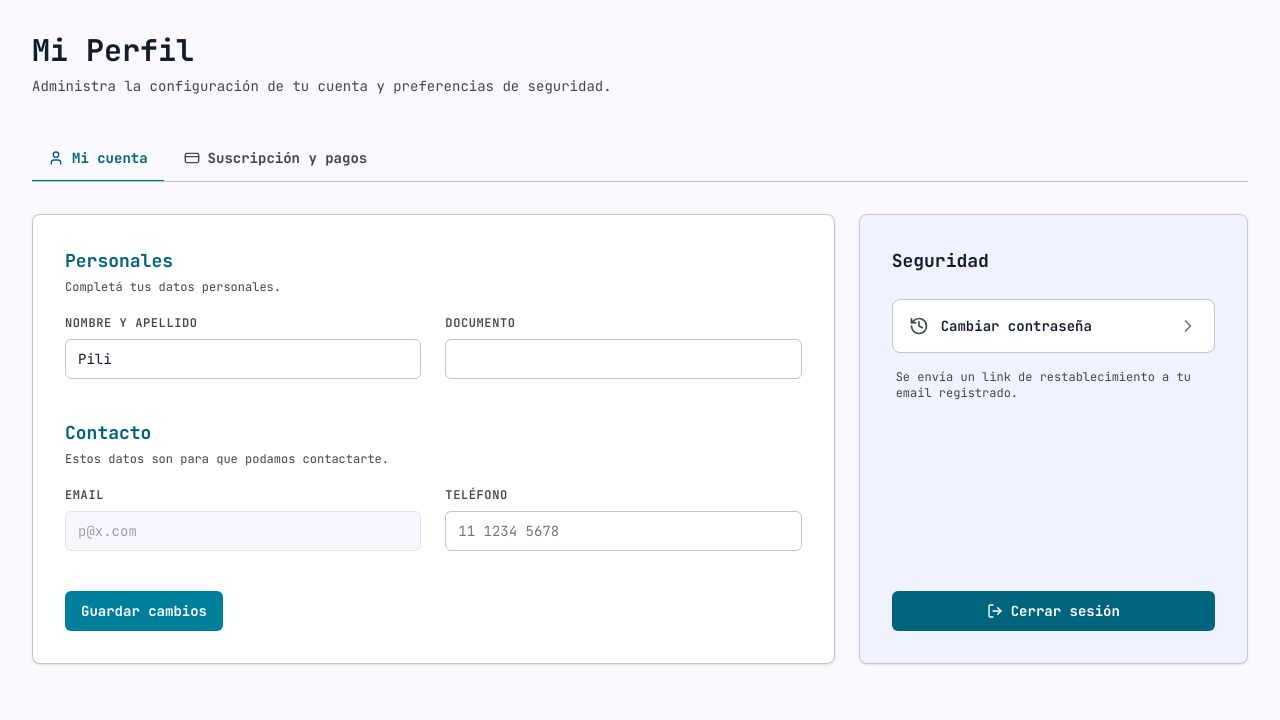
Scenario: Perfil con pestañas › lo escrito en el formulario no se pierde al ir y volver de la otra pestaña
Type "11 5555 0000" into the field labelled "Teléfono" at point(623, 531), box [445,511,802,551]
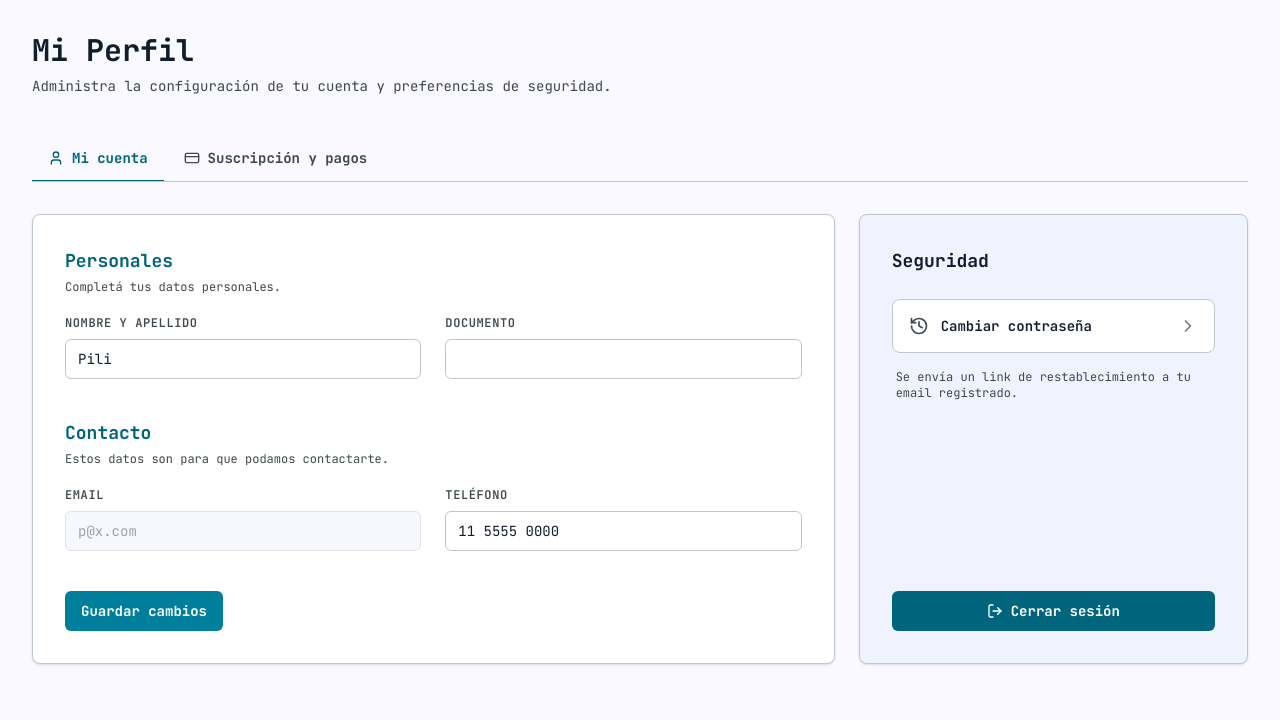
Click the tab "Suscripción y pagos" at point(275, 159), box [168,136,383,182]
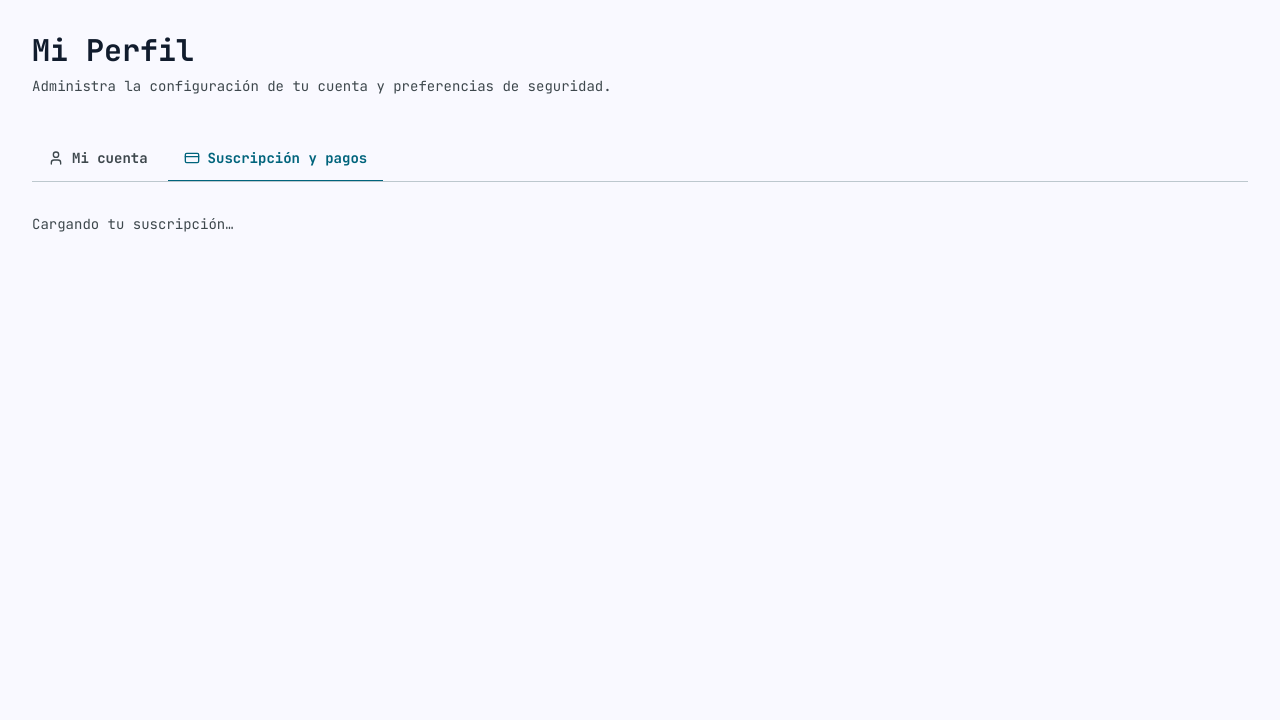
Click the tab "Mi cuenta" at point(98, 159), box [32,136,164,182]
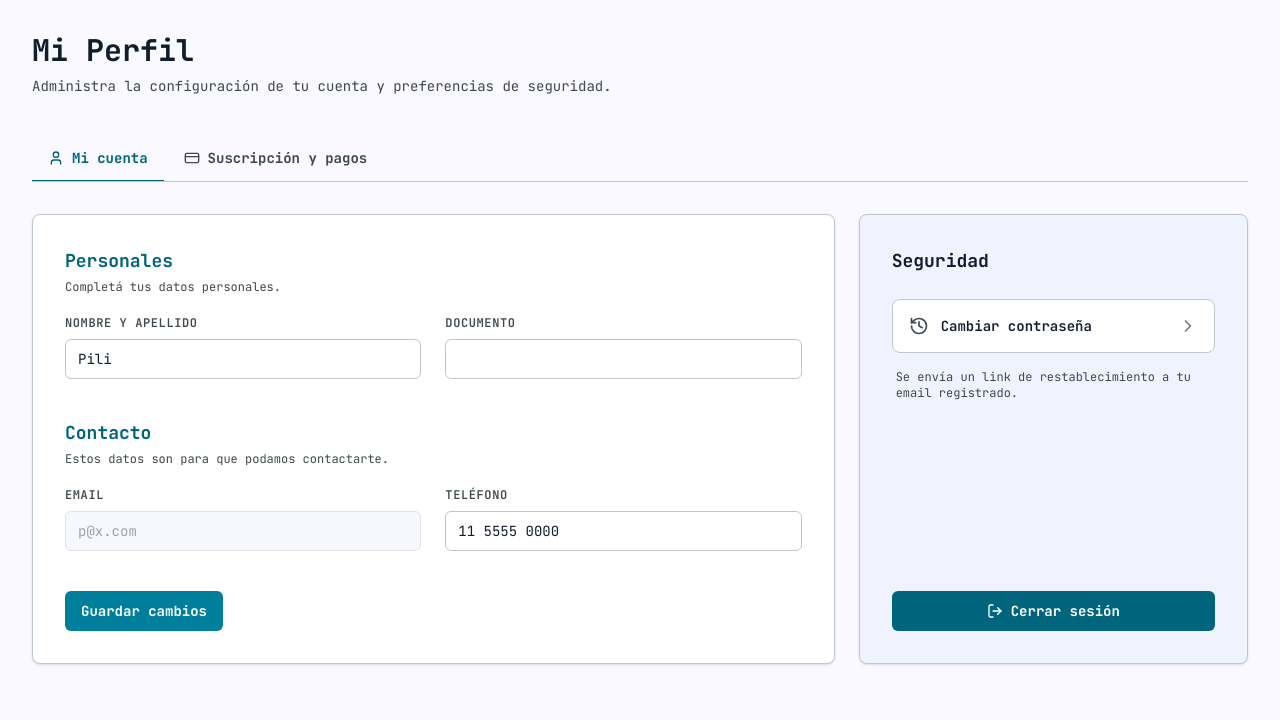
Now the field labelled "Teléfono" holds "11 5555 0000", box [445,511,802,551]
